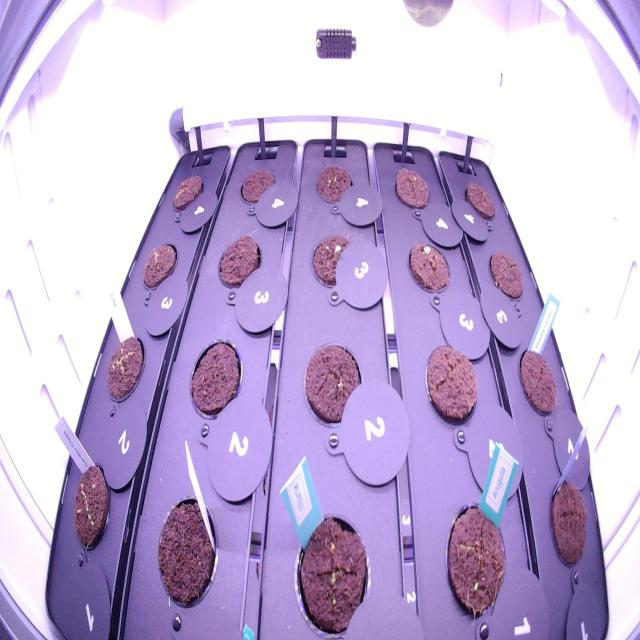germination: (70, 455, 114, 567), (307, 226, 363, 305), (103, 326, 147, 409), (406, 235, 453, 299), (392, 159, 432, 215)
pod: (288, 500, 374, 635), (440, 494, 510, 621), (150, 494, 220, 616), (299, 332, 371, 435), (422, 337, 482, 431), (187, 331, 247, 420), (546, 472, 593, 581), (515, 342, 564, 427), (214, 229, 264, 297), (140, 236, 182, 299), (312, 159, 358, 216), (486, 246, 528, 304), (166, 163, 206, 223), (236, 164, 278, 214), (460, 175, 499, 225)
